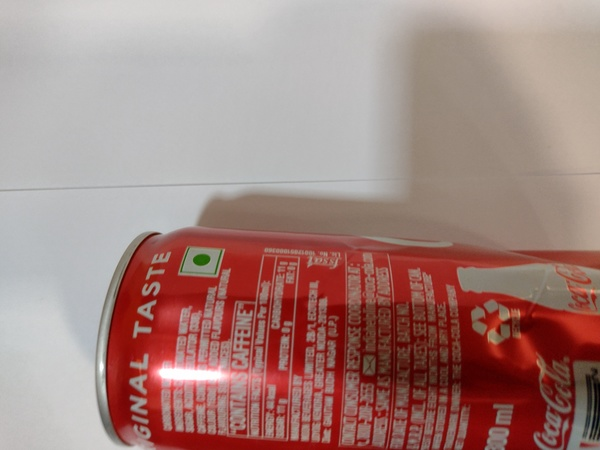can: (92, 220, 596, 442)
